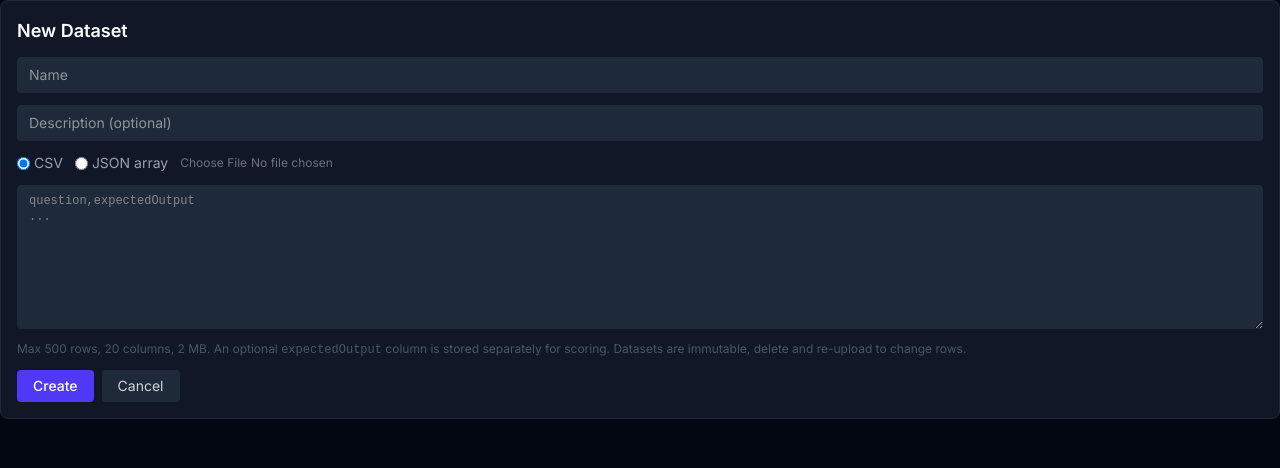
Scenario: DatasetUpload › rejects malformed JSON locally rather than posting it
Type "Broken" into the field with placeholder "Name".
click(640, 75); type("Broken")  # box [17,57,1263,93]
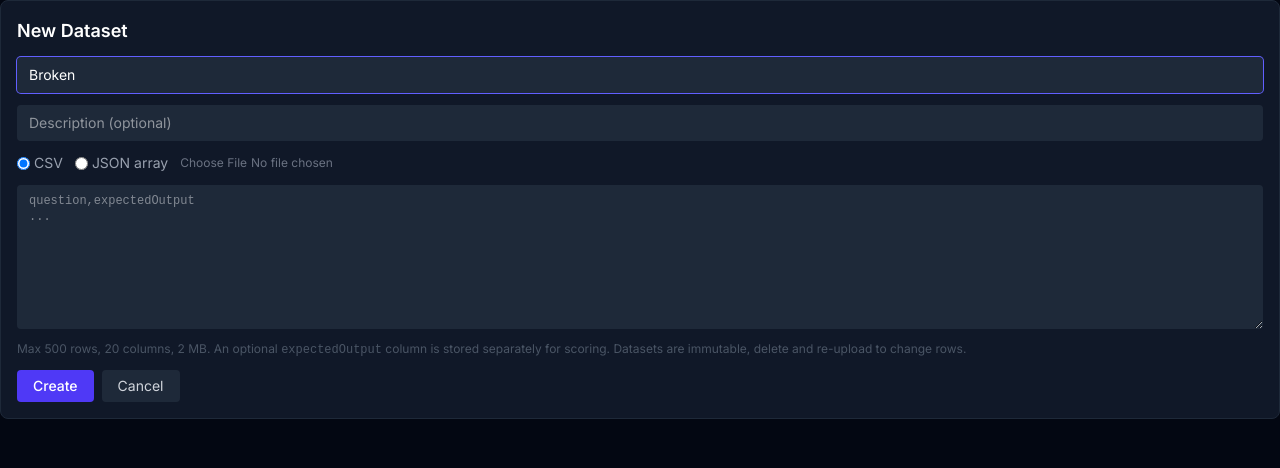
Click the radio button labelled "JSON array".
click(81, 163)  # box [75,156,88,170]
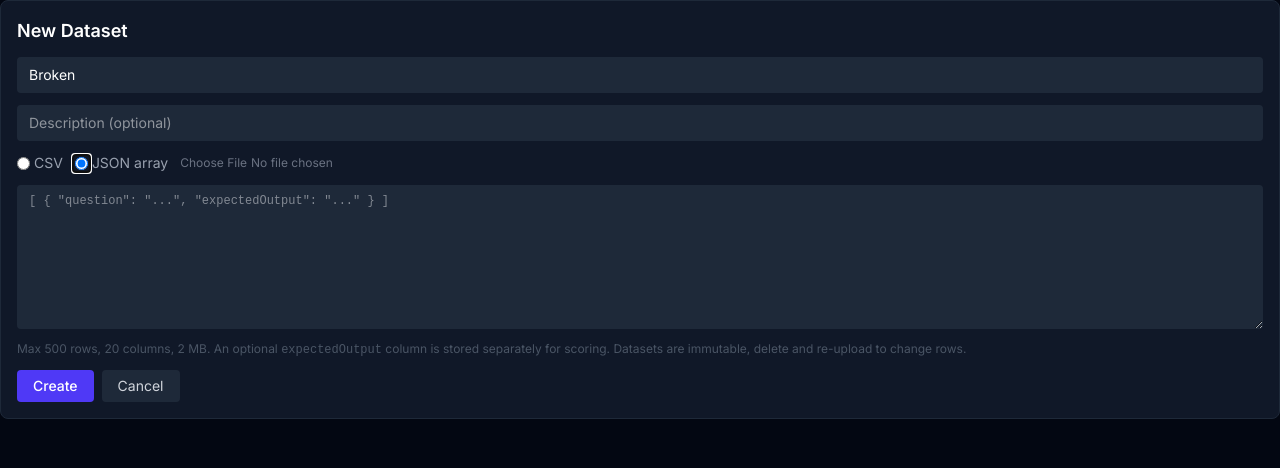
Click the text box with placeholder "[ { \"question\": \"...\", \"expectedOutput\": \"...\" } ]".
click(640, 257)  # box [17,185,1263,329]
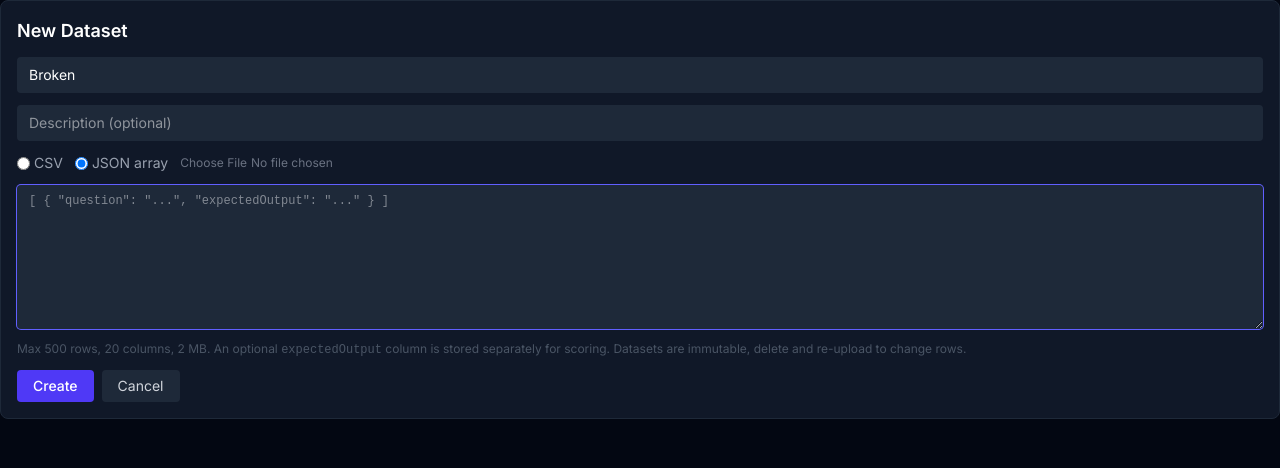
Type keys "[ { unclosed: "
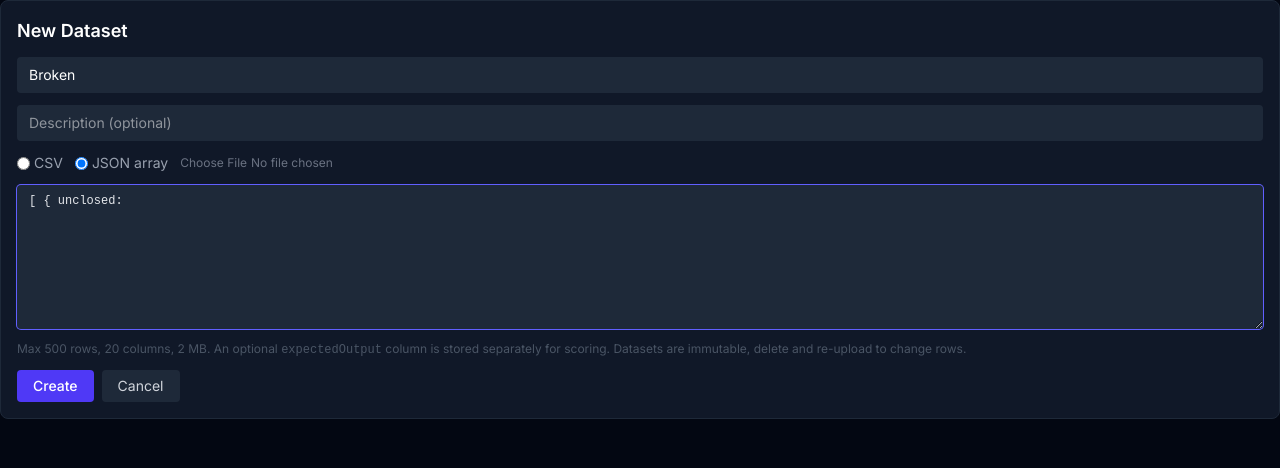
Click the button "Create".
click(55, 386)  # box [17,370,94,402]
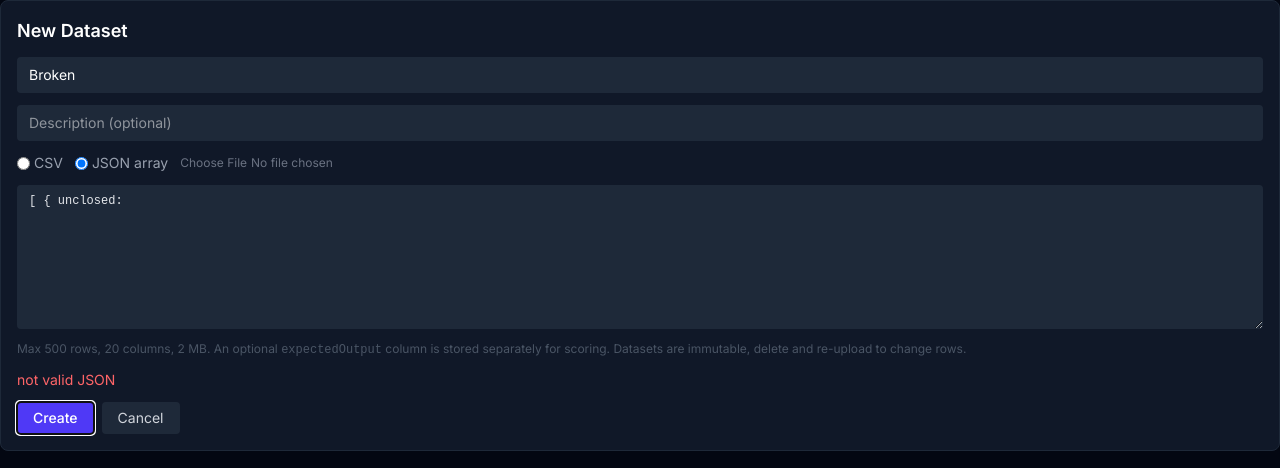
Expected: the text "not valid JSON" is shown, [17,371,115,388]
